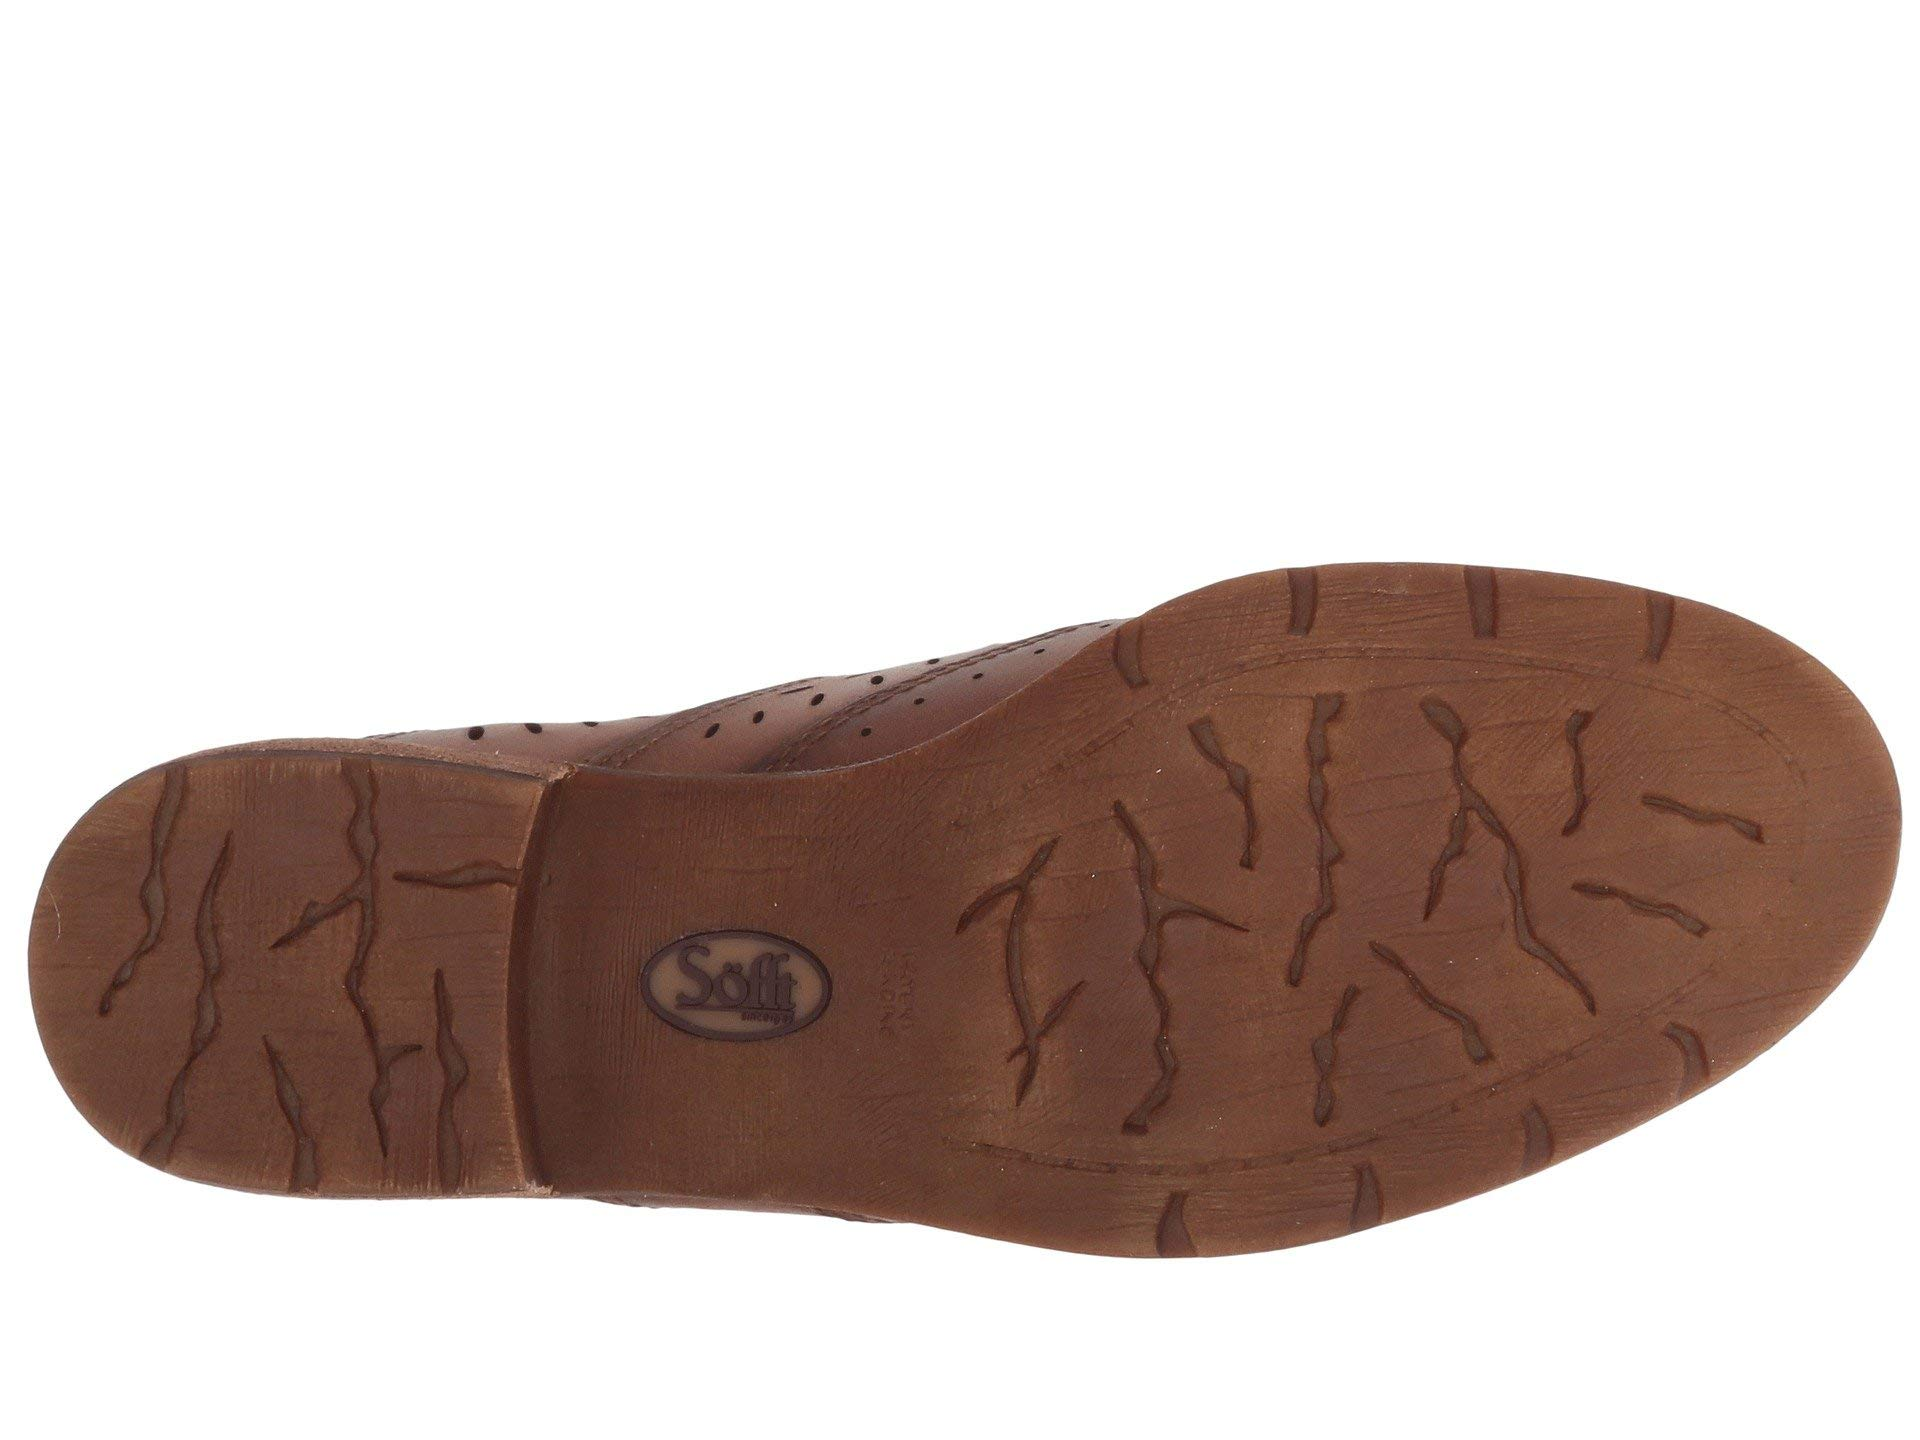circle: (600, 906, 862, 1110)
text: (600, 906, 862, 1110)
